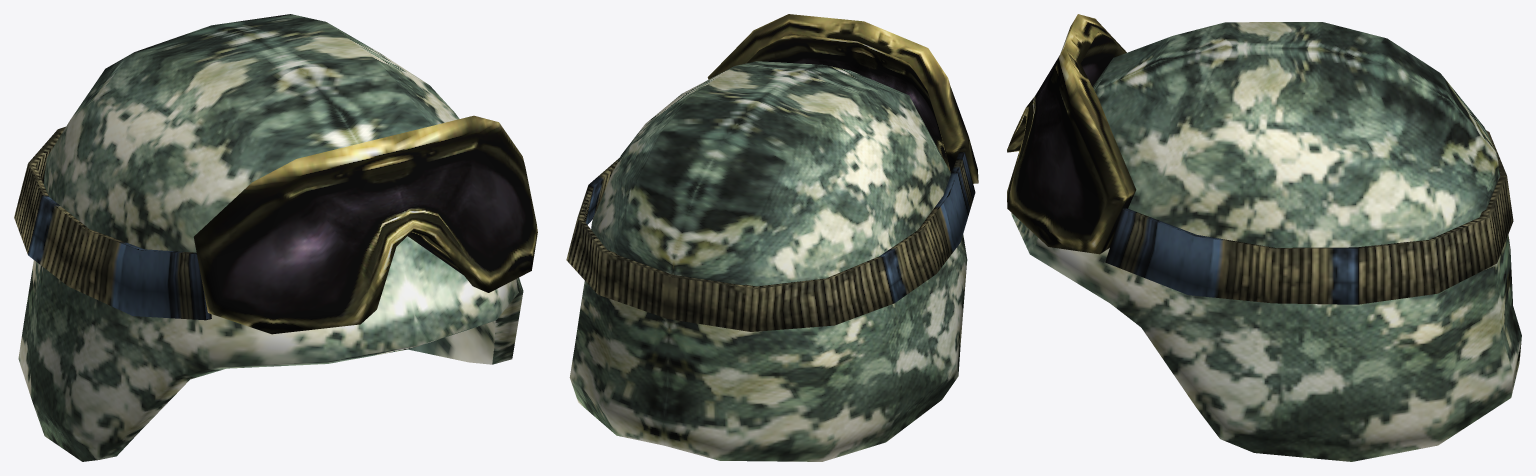
File: Helmet.FBX
The picture shows the model from 3 angles, left to right: view 1: azimuth 30°, elevation 25°; view 2: azimuth 150°, elevation 25°; view 3: azimuth 270°, elevation 25°; orthographic projection. The views are drawn at different scales.
Visible parts, largest first — view 1: solder_mesh; view 2: solder_mesh; view 3: solder_mesh.
Part boxes in pixels (left/top/right/bottom): solder_mesh: left=14, top=14, right=537, bottom=461; solder_mesh: left=566, top=14, right=978, bottom=461; solder_mesh: left=1007, top=14, right=1521, bottom=461.
Bounding box in the file's own units: 9.08 × 7.5 × 10.51.
